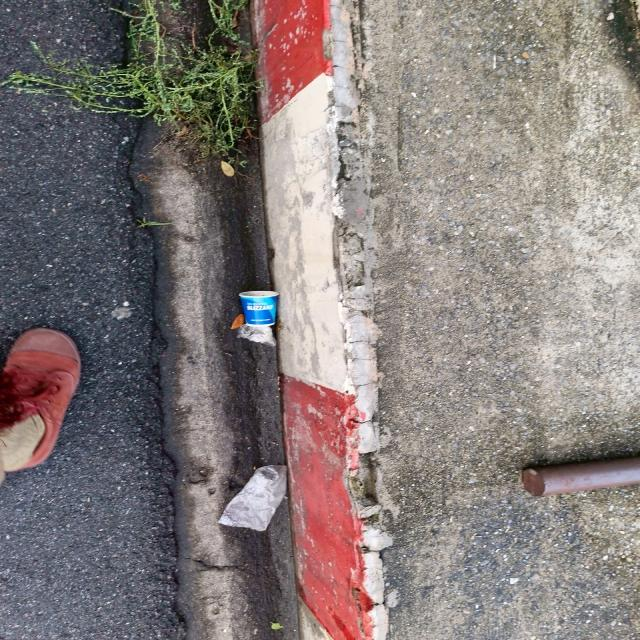paper cup: (240, 291, 290, 328)
